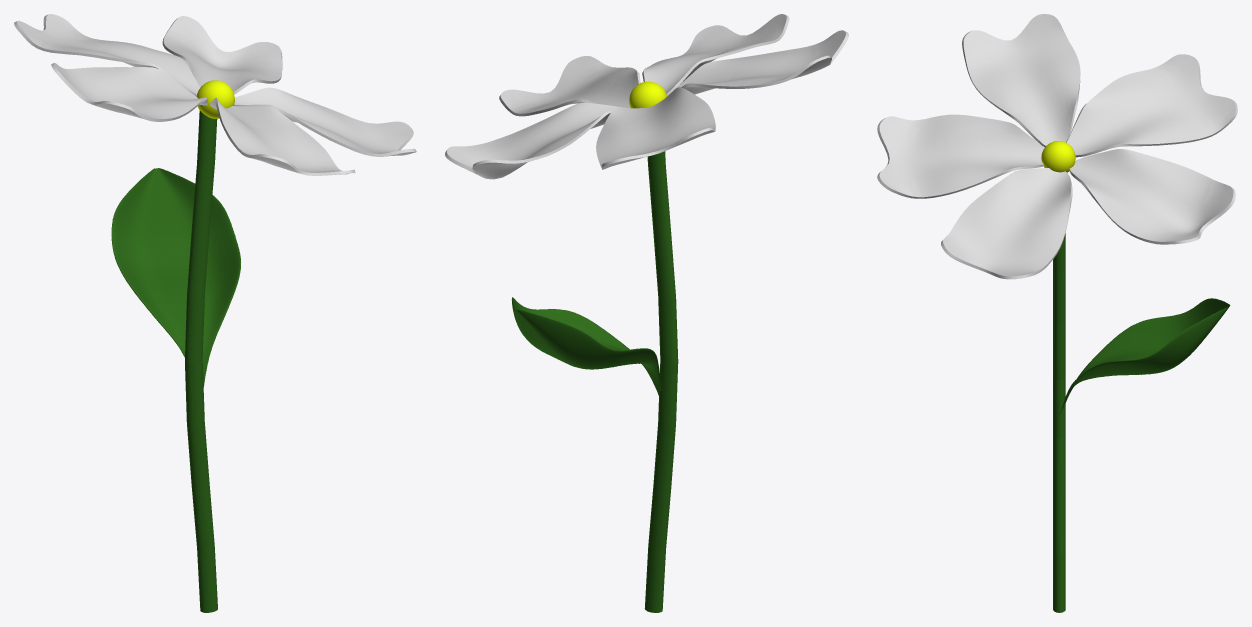
3 renders of one model, left to right at view 1: azimuth 30°, elevation 25°; view 2: azimuth 150°, elevation 25°; view 3: azimuth 270°, elevation 25°, orthographic. The views are drawn at different scales.
Visible parts, largest first — view 1: f22; view 2: f22; view 3: f22.
Part boxes in pixels (x1,y1,x2,y2): f22: (14, 14, 416, 612); f22: (445, 14, 848, 612); f22: (877, 14, 1237, 612).
Size of the model in its own units: 0.4227 by 0.6947 by 0.4326.
